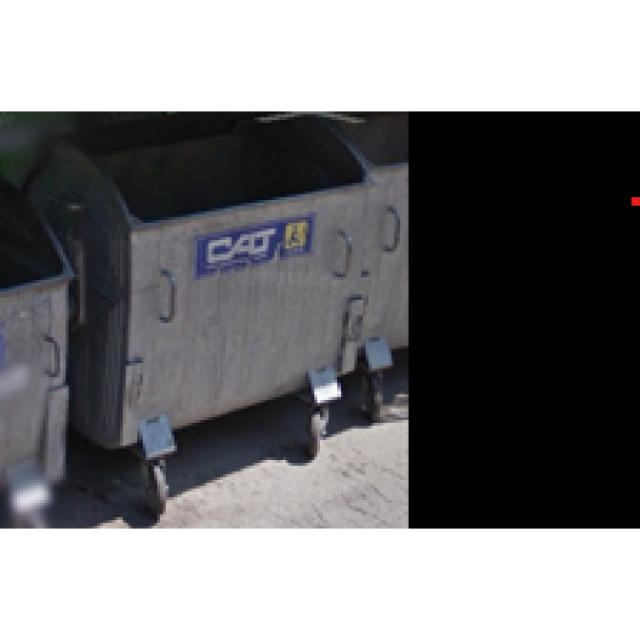general wastetrash bin: (71, 125, 372, 530)
